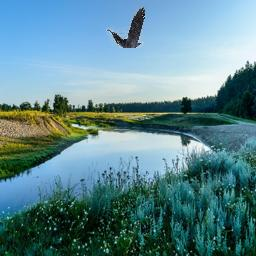Crow: (107, 8, 146, 49)
